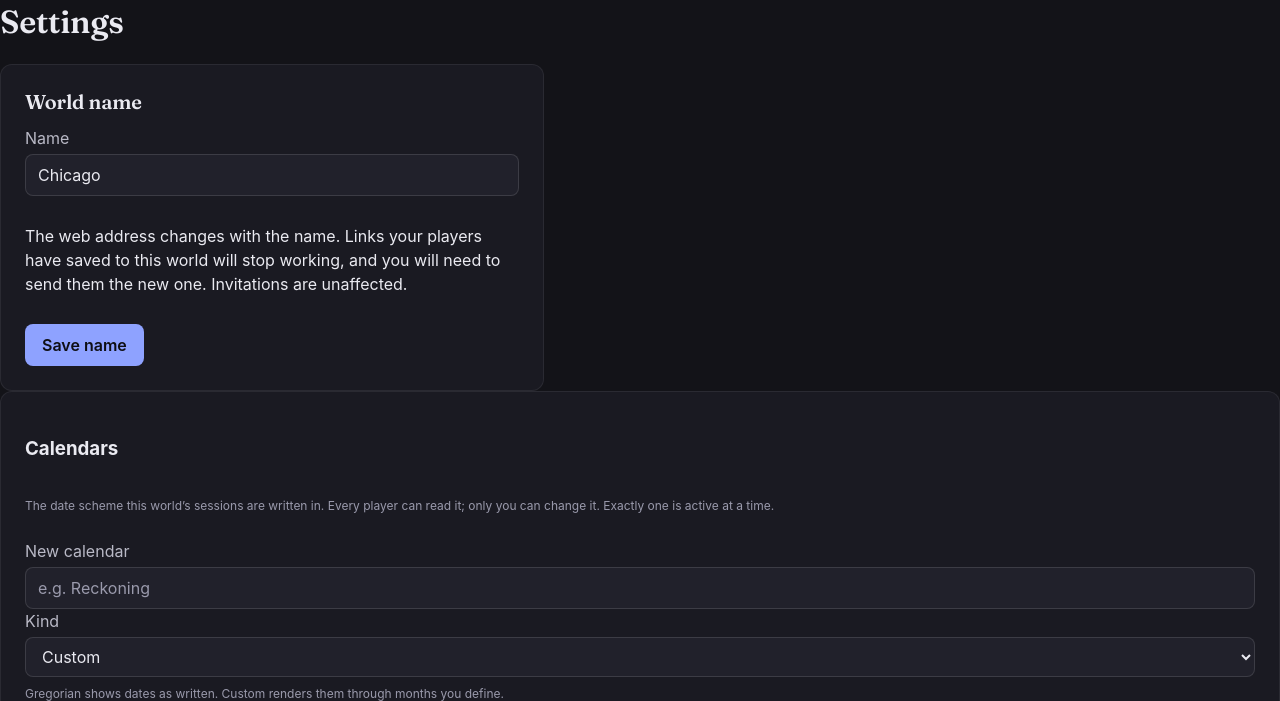
Test: WorldSettingsPage › renames the world and follows it to its new address
Replace the text in the field labelled "Name" with "VTM Detroit" at (272, 175), box [25,154,519,196]
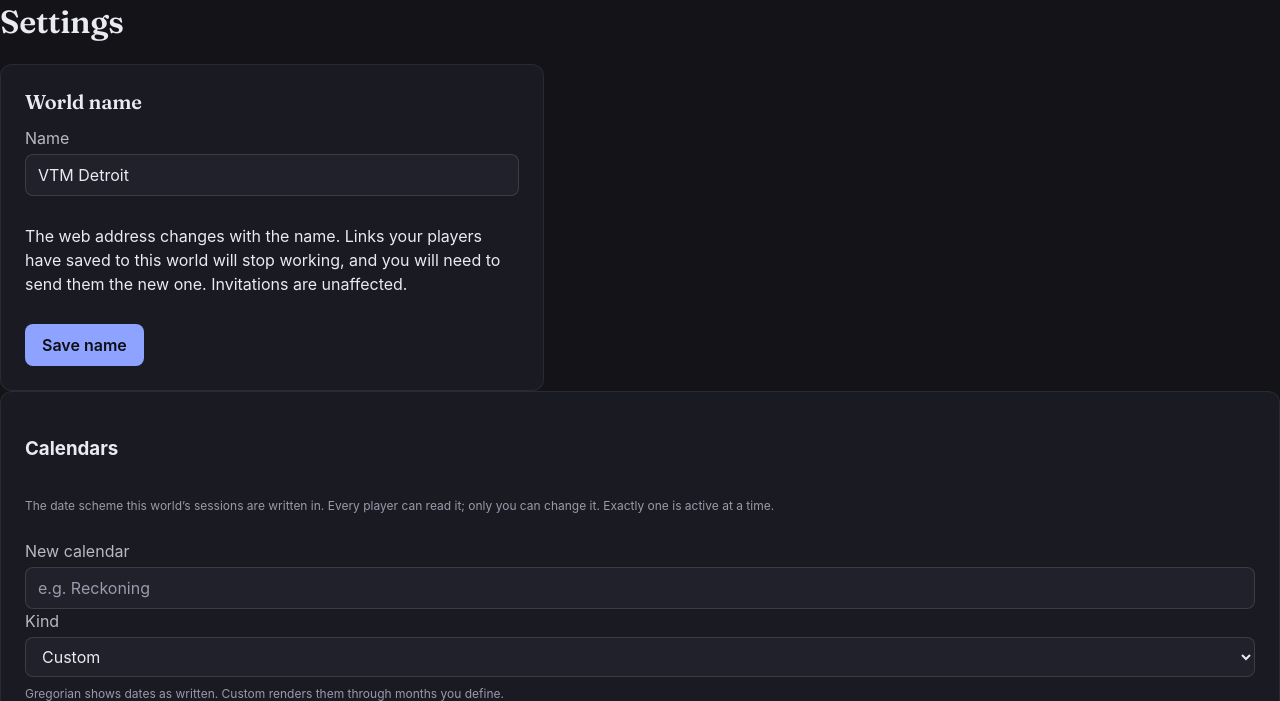
Click the button "Save name" at (84, 345), box [25,324,144,366]
(page scrolled)
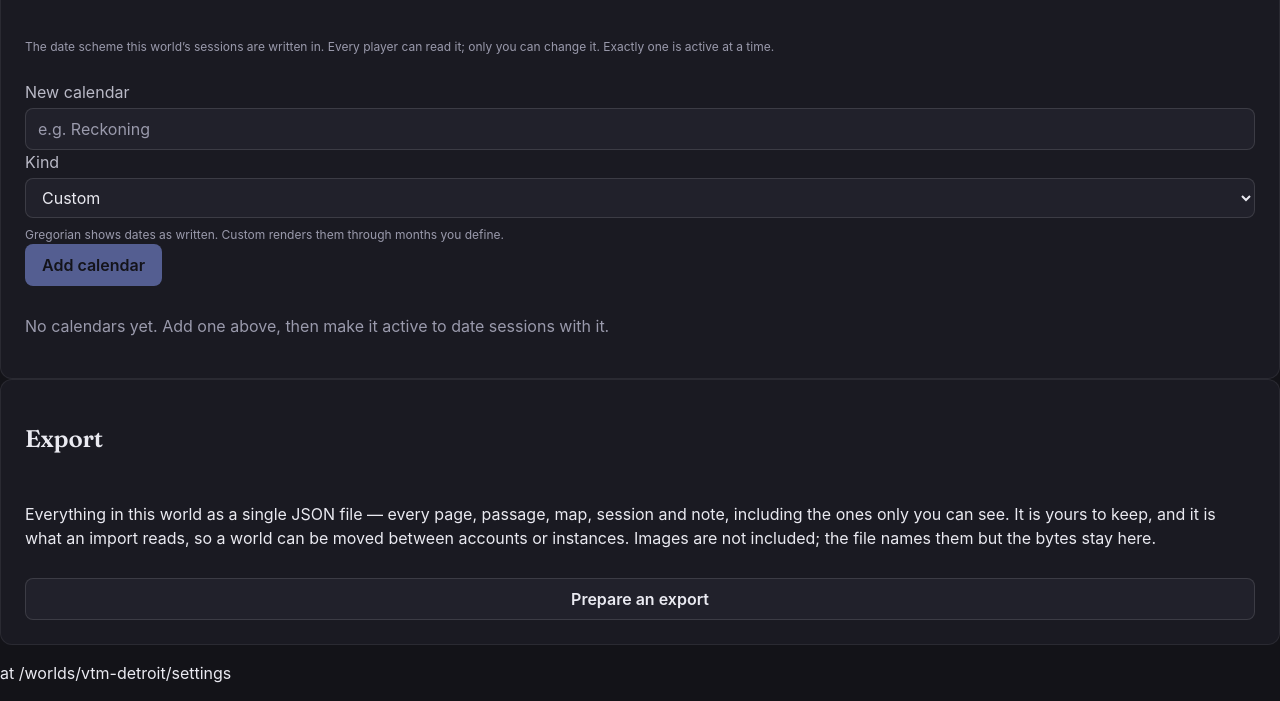
Expected: the text "at /worlds/vtm-detroit/settings" is shown, [0,663,231,683]
